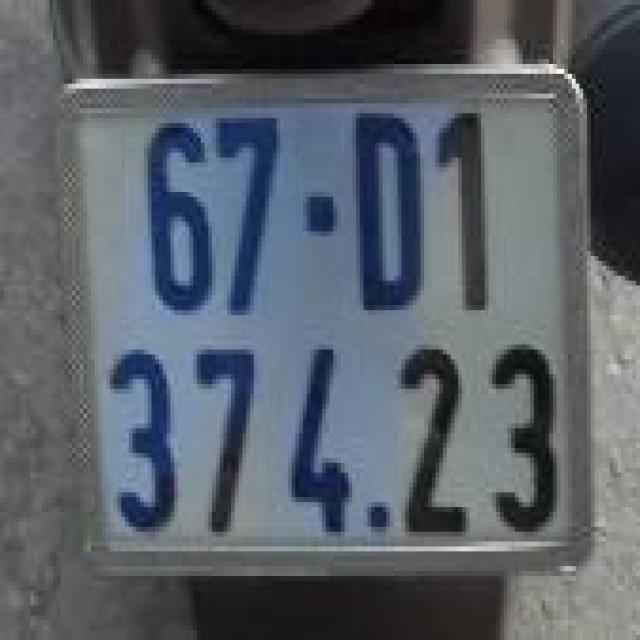1: (430, 86, 494, 332)
2: (394, 335, 469, 551)
3: (485, 335, 572, 546), (100, 337, 180, 544)
4: (286, 329, 358, 536)
6: (138, 103, 218, 330)
7: (203, 81, 278, 328), (195, 344, 256, 542)
D: (347, 84, 426, 330)
